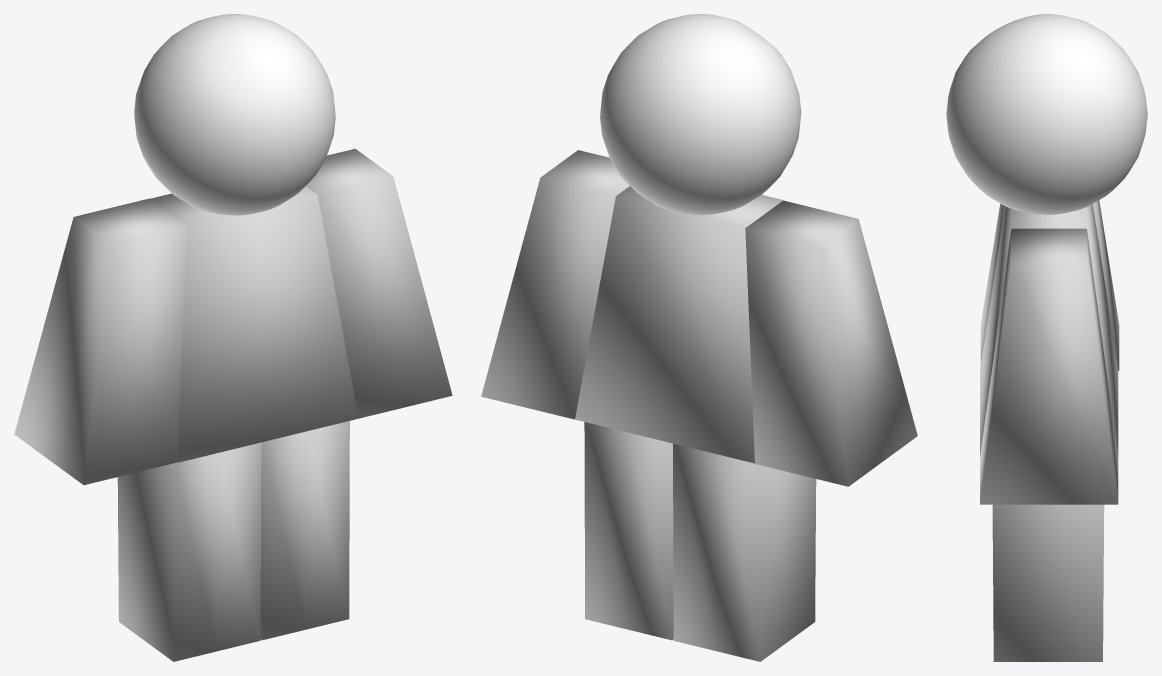
File: CreatopiaBody.glb
3 views of the same model, side by side, from view 1: azimuth 30°, elevation 25°; view 2: azimuth 150°, elevation 25°; view 3: azimuth 270°, elevation 25° (orthographic).
Visible parts, largest first — view 1: Torso, LeftHand, Head, LeftLeg, RightHand, RightLeg; view 2: Torso, LeftHand, Head, LeftLeg, RightHand, RightLeg; view 3: Head, RightHand, RightLeg, Torso, LeftHand.
Part boxes in pixels (left/top/right/bottom): Torso: left=150, top=186, right=358, bottom=462; LeftHand: left=14, top=198, right=186, bottom=485; Head: left=134, top=14, right=335, bottom=215; LeftLeg: left=117, top=442, right=261, bottom=661; RightHand: left=306, top=148, right=452, bottom=418; RightLeg: left=260, top=421, right=349, bottom=640; Torso: left=575, top=186, right=783, bottom=463; LeftHand: left=745, top=200, right=917, bottom=486; Head: left=600, top=14, right=801, bottom=215; LeftLeg: left=673, top=443, right=816, bottom=661; RightHand: left=481, top=150, right=629, bottom=419; RightLeg: left=584, top=422, right=673, bottom=640; Head: left=946, top=14, right=1147, bottom=214; RightHand: left=980, top=228, right=1118, bottom=504; RightLeg: left=992, top=504, right=1104, bottom=661; Torso: left=980, top=204, right=1118, bottom=456; LeftHand: left=980, top=200, right=1119, bottom=370.
Size of the model in its own units: 3.72 by 5.76 by 1.77.
Materials: 1 (1 with a texture image).
